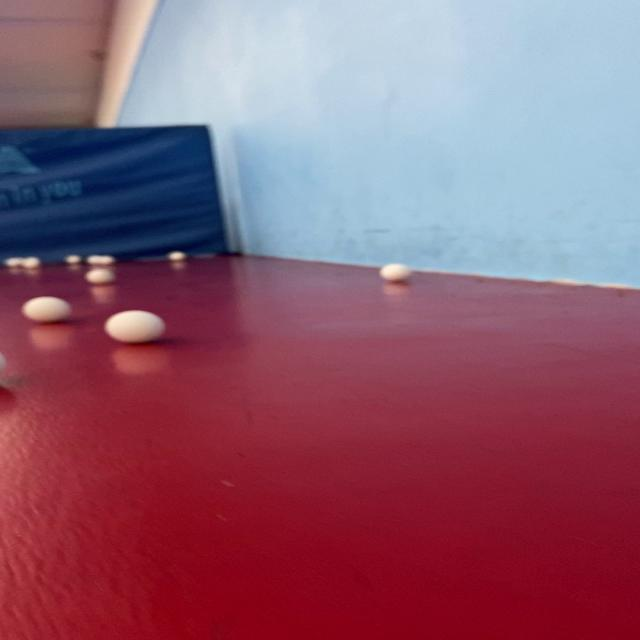ping-pong-ball: (98, 298, 170, 350), (361, 254, 427, 292), (17, 289, 82, 326), (72, 260, 124, 290), (13, 252, 50, 276), (56, 246, 86, 272), (86, 249, 120, 270), (160, 246, 193, 266)
